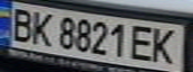1: (109, 20, 130, 58)
2: (90, 18, 112, 56)
8: (54, 13, 78, 51), (72, 16, 93, 54)
B: (3, 6, 39, 43)
E: (127, 23, 160, 62)
K: (148, 25, 184, 65), (27, 9, 57, 46)
